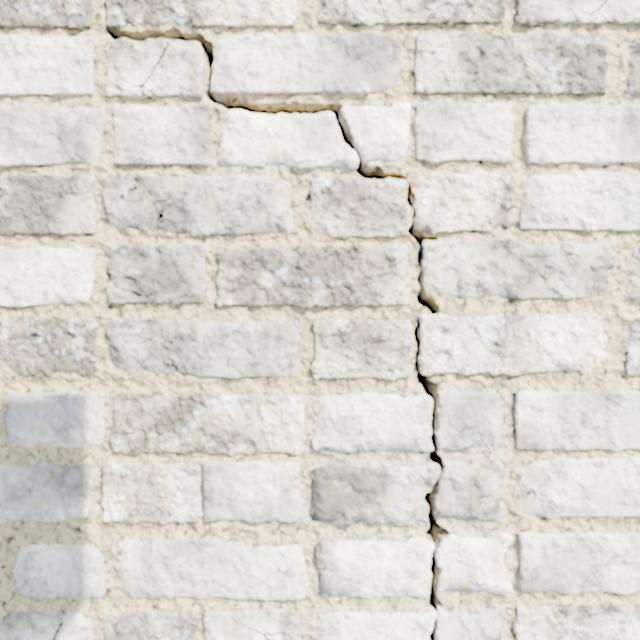broken_brick: (218, 110, 357, 169), (311, 464, 439, 525), (312, 393, 432, 451), (317, 538, 433, 597), (315, 609, 504, 639), (437, 533, 511, 594), (342, 102, 410, 162), (435, 460, 501, 519), (437, 391, 502, 449)
crack: (103, 0, 618, 613), (101, 460, 301, 524), (413, 31, 607, 96), (216, 244, 410, 309), (110, 392, 304, 454), (119, 537, 307, 600), (102, 175, 293, 236), (106, 318, 298, 377), (514, 388, 639, 450), (518, 532, 639, 594), (519, 170, 639, 231), (519, 457, 639, 518), (524, 103, 639, 165), (0, 103, 105, 167), (413, 100, 513, 164), (310, 318, 411, 380), (113, 104, 211, 166), (107, 244, 205, 304), (0, 317, 98, 377), (0, 174, 95, 235), (0, 462, 94, 523), (0, 35, 93, 96), (0, 247, 96, 306), (5, 391, 104, 448), (13, 543, 105, 599), (315, 0, 505, 25), (513, 604, 639, 639), (514, 0, 639, 27), (203, 608, 301, 639), (0, 0, 92, 31), (102, 610, 198, 639), (0, 611, 94, 639), (624, 37, 639, 95), (625, 318, 639, 375), (629, 247, 639, 300), (428, 618, 437, 639), (477, 495, 489, 498), (311, 475, 312, 499)
